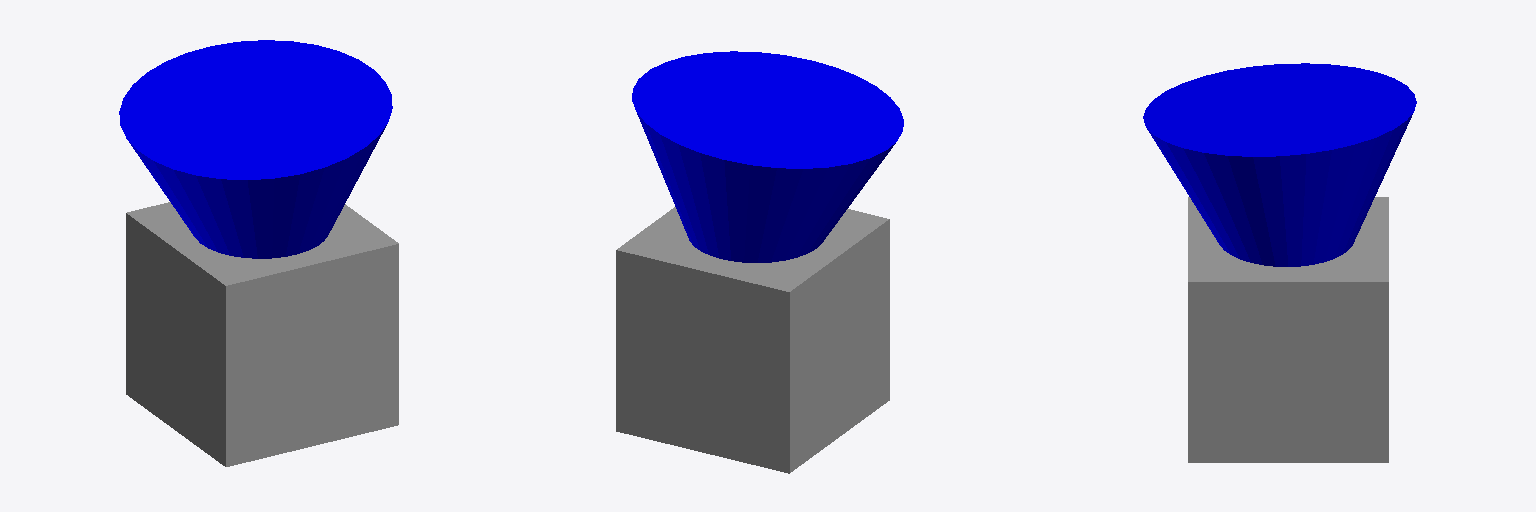
Rendered from Cubecone.obj.
3 renders of one model, left to right at view 1: azimuth 30°, elevation 25°; view 2: azimuth 150°, elevation 25°; view 3: azimuth 270°, elevation 25°, orthographic.
Visible parts, largest first — view 1: Cube, Cone; view 2: Cube, Cone; view 3: Cube, Cone.
Part boxes in pixels (bbox=[...]): Cube: bbox=[126, 202, 398, 466]; Cone: bbox=[119, 40, 392, 258]; Cube: bbox=[616, 207, 889, 473]; Cone: bbox=[632, 51, 903, 262]; Cube: bbox=[1188, 197, 1388, 462]; Cone: bbox=[1143, 63, 1416, 266].
Bounding box in the file's own units: 44.99 × 57.98 × 45.1.